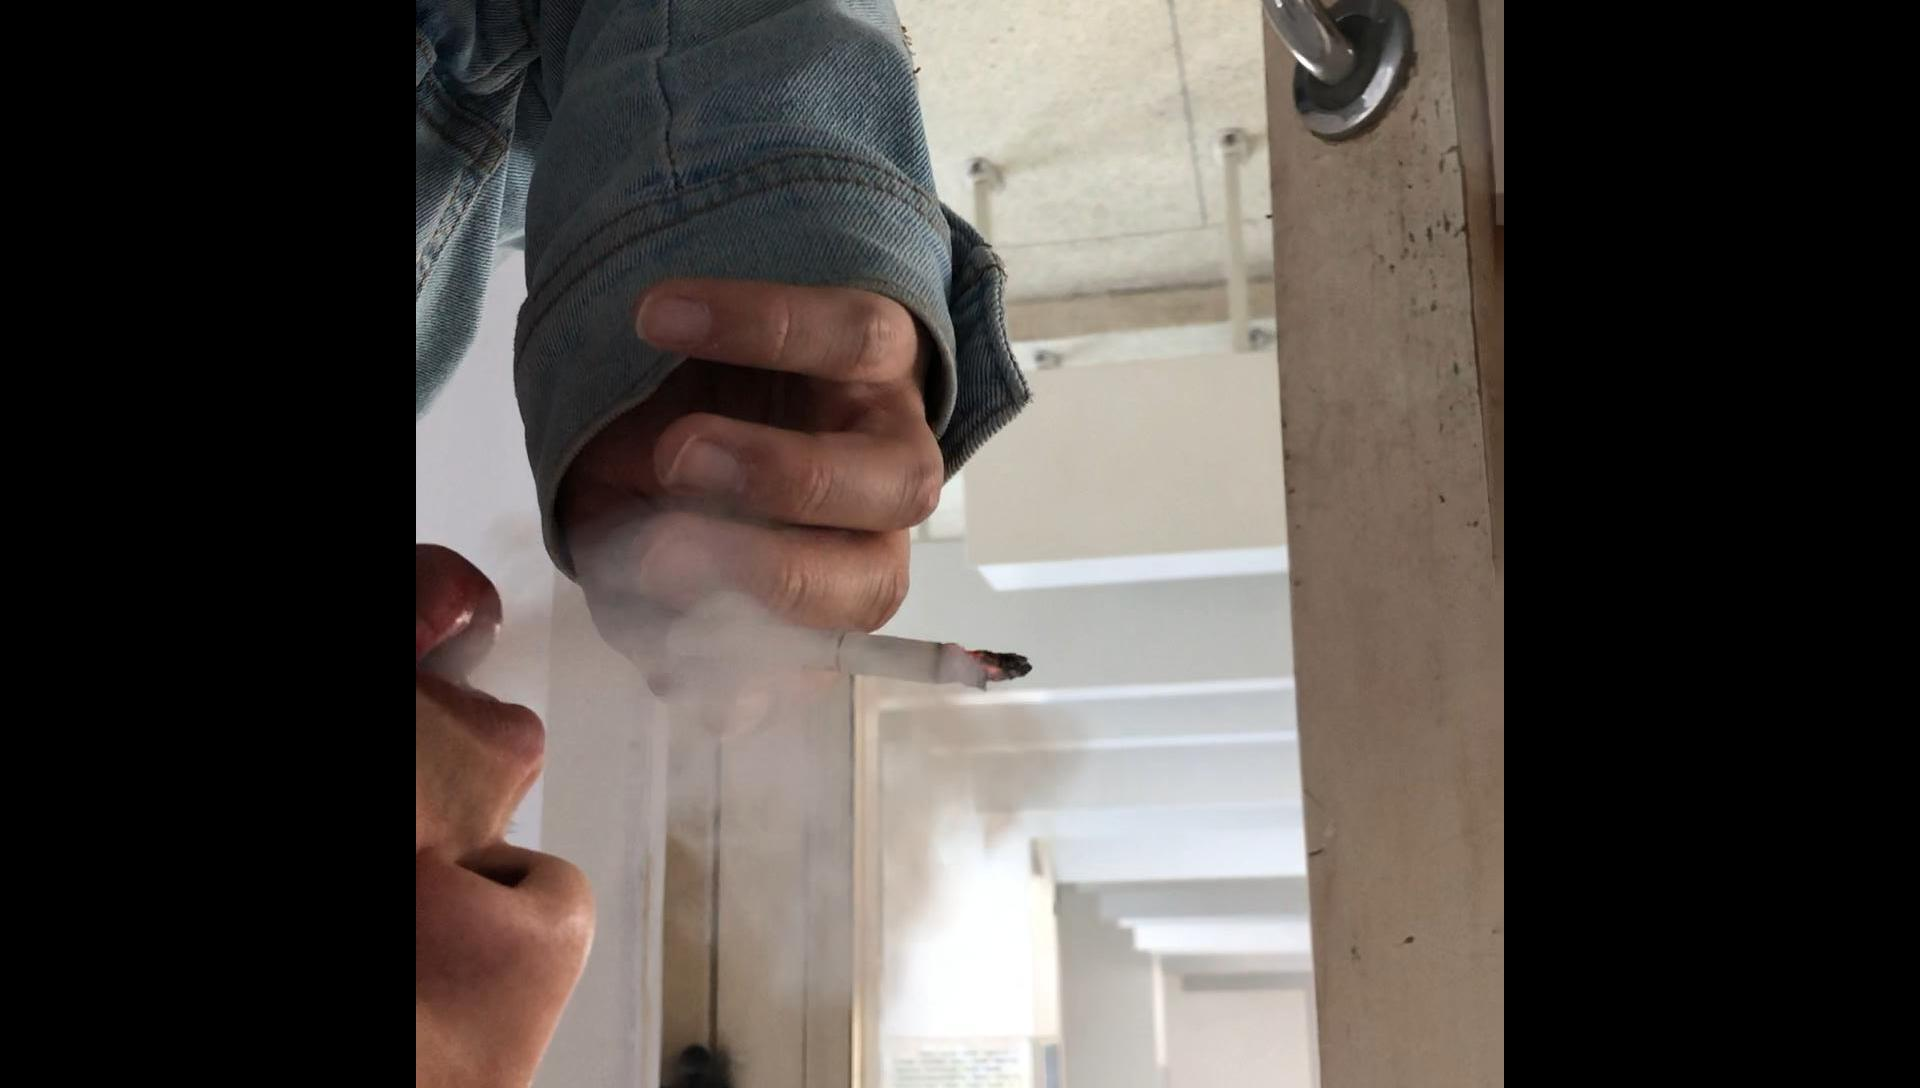Cigarette: (754, 626, 1030, 688)
Smoke: (451, 491, 1055, 971)
